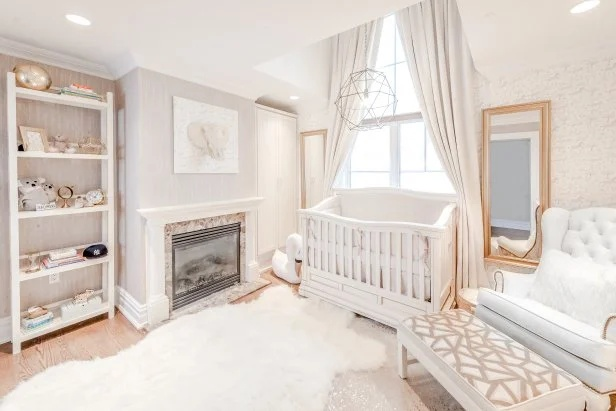crib: (299, 189, 455, 325)
